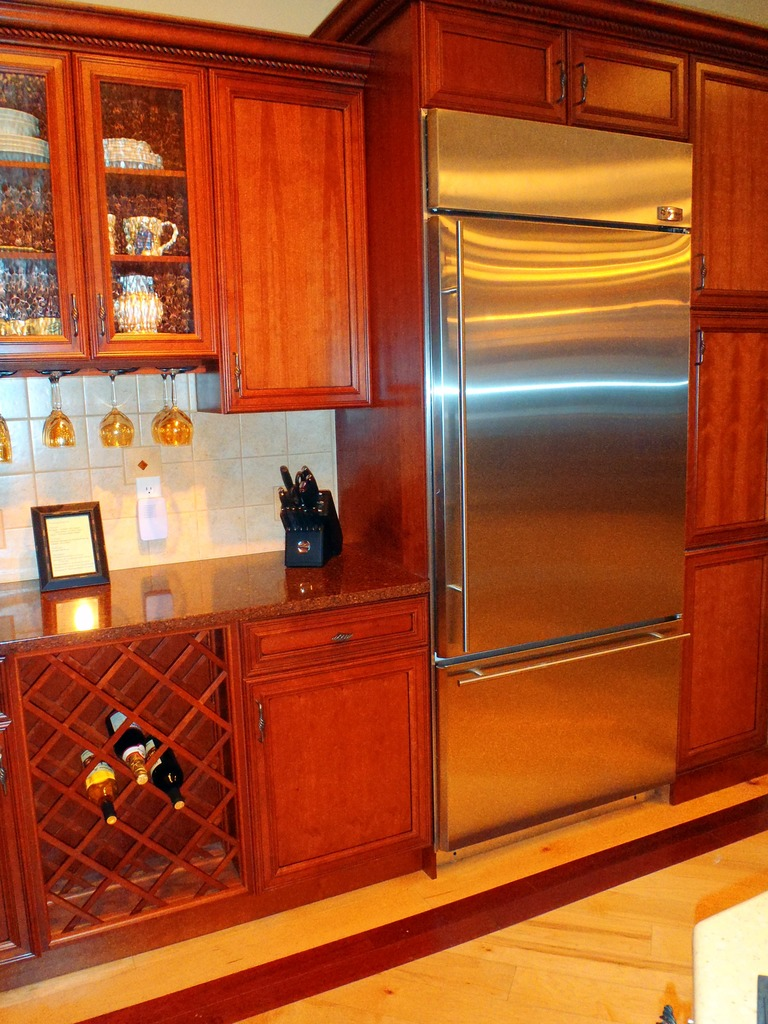cabinet door: (225, 87, 363, 411), (79, 53, 211, 351), (247, 687, 431, 846), (2, 50, 78, 336), (698, 71, 768, 300), (700, 319, 768, 525), (433, 20, 562, 108), (565, 34, 676, 111), (254, 619, 418, 664)
handle: (446, 229, 479, 661), (466, 636, 682, 693), (567, 60, 591, 108), (250, 698, 270, 745), (94, 289, 109, 346), (325, 627, 356, 653), (555, 54, 568, 107), (230, 346, 243, 397), (695, 327, 707, 374), (697, 252, 709, 296), (71, 296, 82, 344)
refrigerator door: (439, 223, 679, 614), (453, 664, 681, 788)
